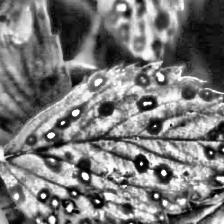Leaf Spot: (0, 59, 224, 224), (90, 0, 198, 65)
